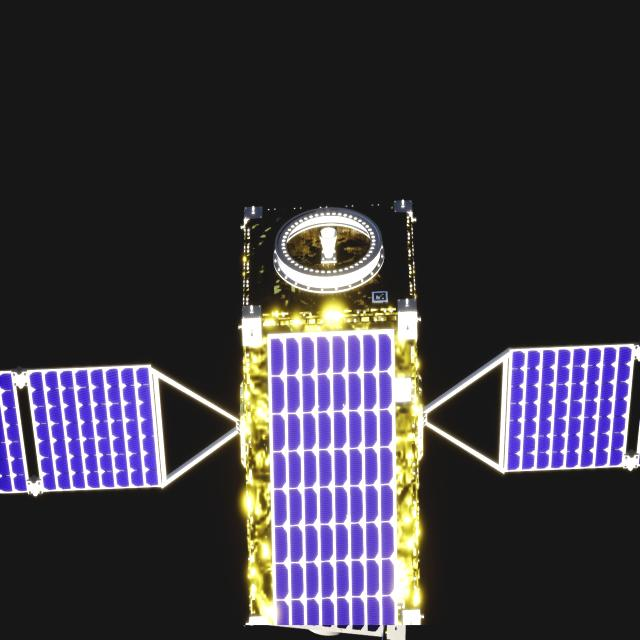satellite: (0, 199, 640, 640)
